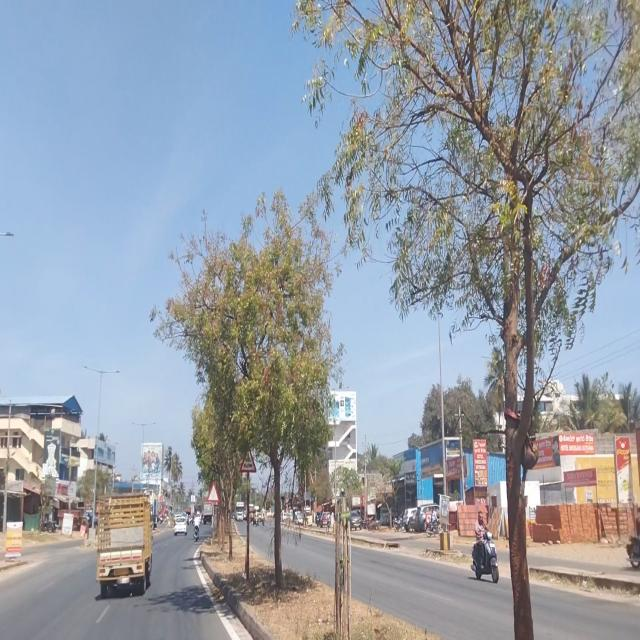bien_cam: (240, 444, 256, 473), (207, 481, 219, 503)
